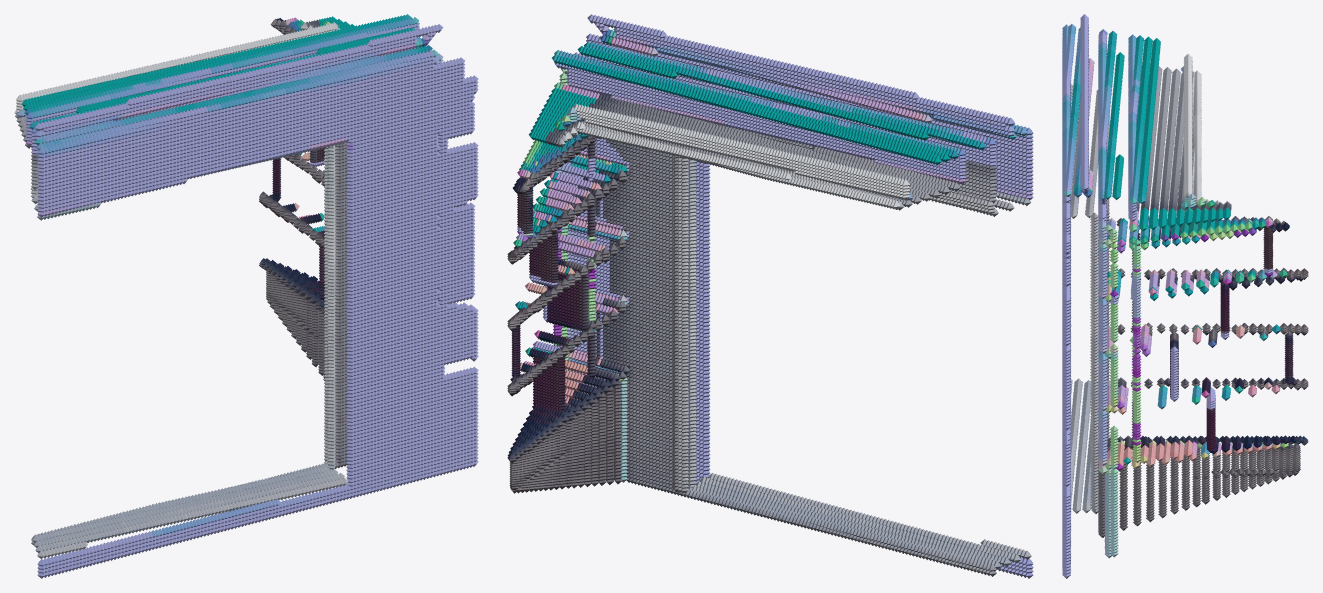
File: combine_gt.glb
The picture shows the model from 3 angles, left to right: view 1: azimuth 30°, elevation 25°; view 2: azimuth 150°, elevation 25°; view 3: azimuth 270°, elevation 25°; orthographic projection. The views are drawn at different scales.
Parts seen in each view (by area): view 1: world; view 2: world; view 3: world.
Boxes of the visible parts, x1,y1,x2,y2 form: world: [14, 14, 478, 578]; world: [507, 14, 1033, 578]; world: [1062, 14, 1308, 578].
Bounding box in the file's own units: 2.96 × 2.88 × 1.64.
